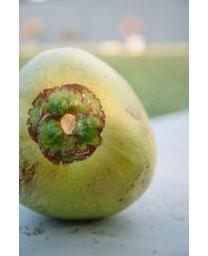coconut: (18, 47, 154, 225)
